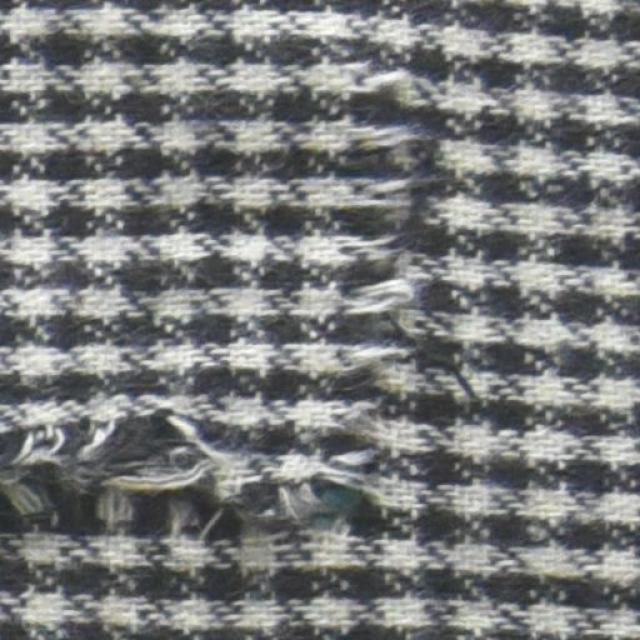Snag: (0, 50, 451, 558)
